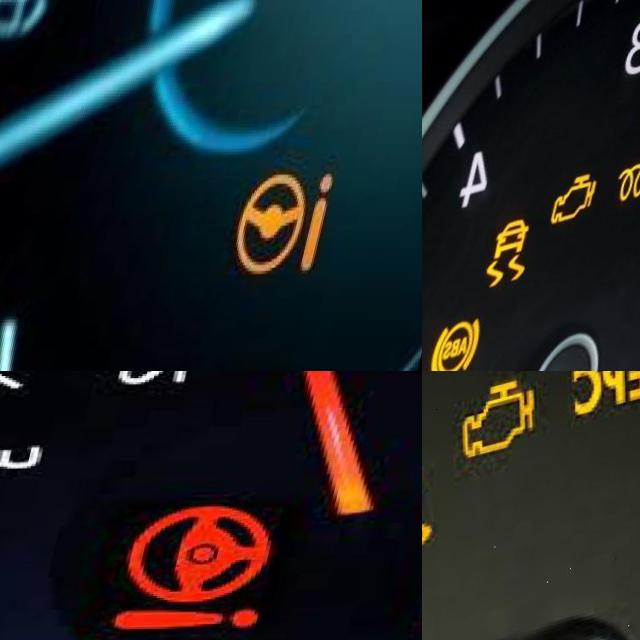Electronic Power Steering: (127, 507, 305, 632), (247, 169, 358, 278)
